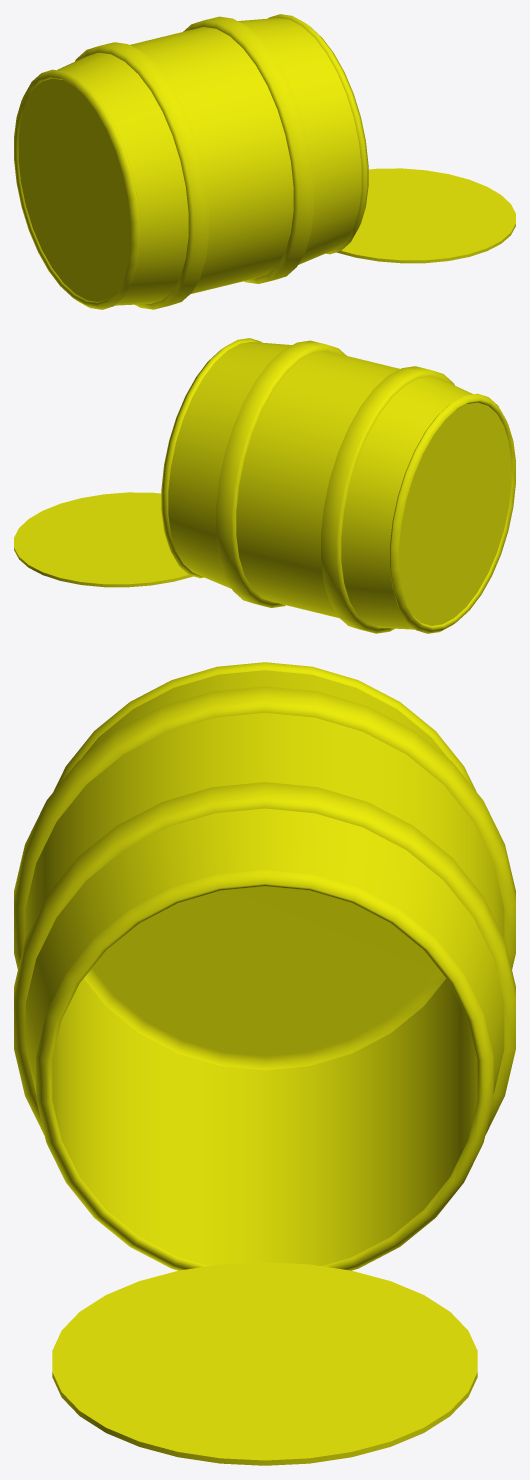
Rendered from Tonneau_03.fbx.
3 renders of one model, top to bottom at view 1: azimuth 30°, elevation 25°; view 2: azimuth 150°, elevation 25°; view 3: azimuth 270°, elevation 25°, orthographic. The views are drawn at different scales.
Parts seen in each view (by area): view 1: Tonneau_03; view 2: Tonneau_03; view 3: Tonneau_03.
Part boxes in pixels (x1,y1,x2,y2): Tonneau_03: (14,14,515,309); Tonneau_03: (14,338,515,633); Tonneau_03: (14,662,515,1465).
Bounding box in the file's own units: 1.83 × 0.9956 × 0.9901.
